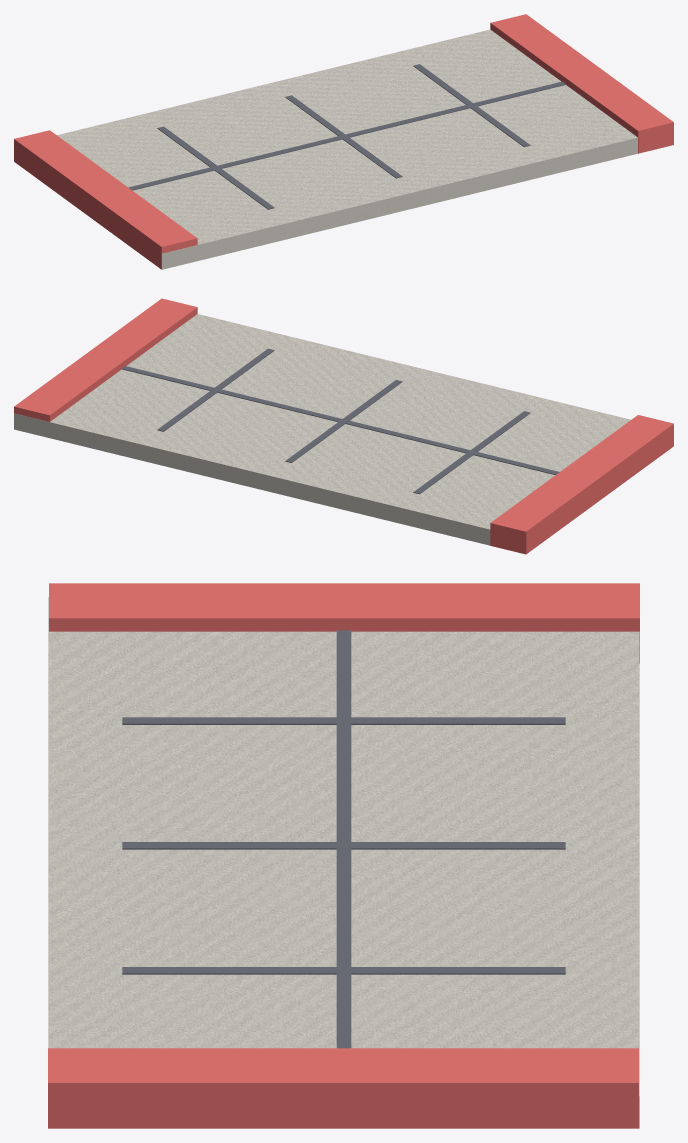
File: theme-park-rides-and-coasters-theme-park-rides-and-coa-7ca50eb4__28695.glb
3 renders of one model, top to bottom at view 1: azimuth 30°, elevation 25°; view 2: azimuth 150°, elevation 25°; view 3: azimuth 270°, elevation 25°, orthographic. The views are drawn at different scales.
Parts seen in each view (by area): view 1: theme-park-rides-and-coasters-path-tile-half; view 2: theme-park-rides-and-coasters-path-tile-half; view 3: theme-park-rides-and-coasters-path-tile-half.
Boxes of the visible parts, x1,y1,x2,y2 form: theme-park-rides-and-coasters-path-tile-half: (14, 14, 673, 269); theme-park-rides-and-coasters-path-tile-half: (14, 298, 673, 554); theme-park-rides-and-coasters-path-tile-half: (48, 583, 639, 1128).
Size of the model in its own units: 4 by 0.1701 by 2.
Materials: 3 (1 with a texture image).
